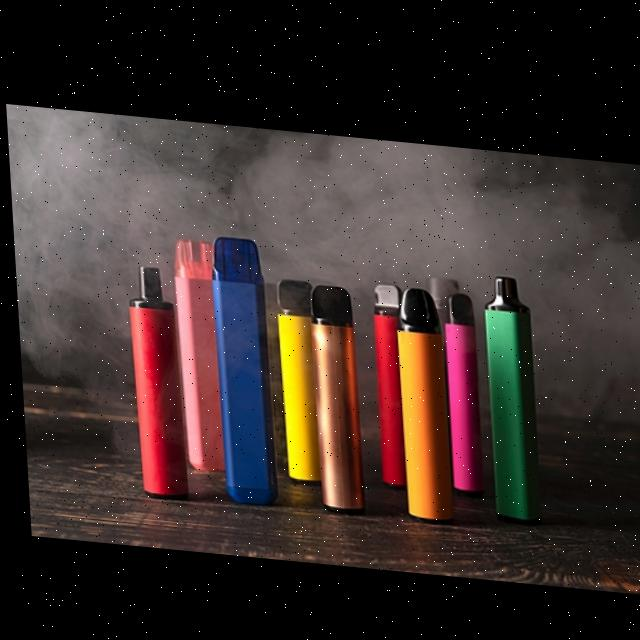vape: (205, 229, 274, 503), (477, 263, 538, 520), (392, 277, 453, 520), (122, 262, 184, 501), (304, 276, 361, 512), (168, 234, 219, 471), (272, 271, 315, 481), (440, 282, 483, 491), (366, 275, 401, 483)
